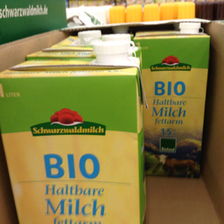milk: (2, 45, 150, 224), (136, 24, 211, 180)
